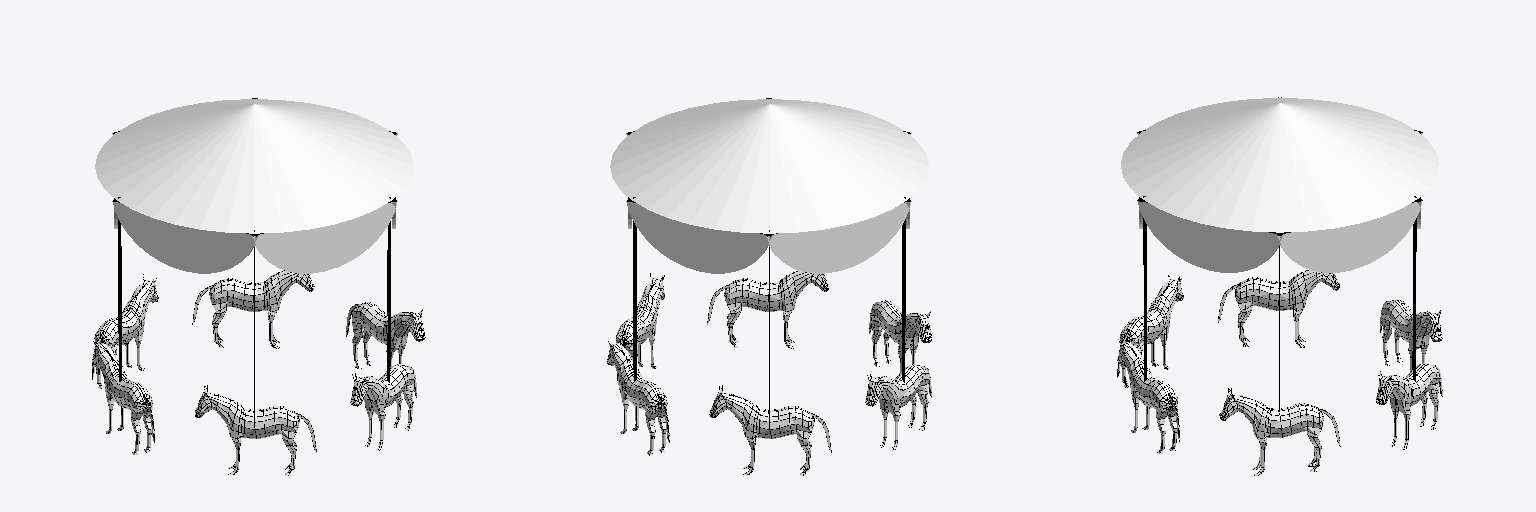
File: kar.obj
3 views of the same model, side by side, from view 1: azimuth 30°, elevation 25°; view 2: azimuth 150°, elevation 25°; view 3: azimuth 270°, elevation 25° (orthographic).
Parts seen in each view (by area): view 1: Cone, Connect.1_3, Connect.1_4, Plane_4, Plane_1, Plane_3, Plane_5, Plane, Plane_2, Sweep_3; view 2: Cone, Connect.1_0, Connect.1_5, Plane_2, Plane_5, Plane_1, Plane_3, Plane_4, Plane, Sweep_1; view 3: Cone, Connect.1_1, Connect.1_2, Plane, Plane_3, Plane_5, Plane_1, Plane_2, Plane_4, Sweep_5.
Part boxes in pixels (bbox=[...]): Cone: bbox=[95, 99, 413, 233]; Connect.1_3: bbox=[251, 200, 397, 273]; Connect.1_4: bbox=[112, 200, 258, 273]; Plane_4: bbox=[195, 385, 316, 475]; Plane_1: bbox=[192, 270, 314, 348]; Plane_3: bbox=[92, 339, 154, 454]; Plane_5: bbox=[350, 364, 416, 450]; Plane: bbox=[346, 302, 425, 368]; Plane_2: bbox=[92, 274, 158, 388]; Sweep_3: bbox=[118, 197, 121, 381]; Cone: bbox=[610, 99, 928, 233]; Connect.1_0: bbox=[626, 200, 772, 273]; Connect.1_5: bbox=[765, 200, 911, 273]; Plane_2: bbox=[709, 385, 831, 475]; Plane_5: bbox=[707, 270, 828, 348]; Plane_1: bbox=[607, 338, 669, 455]; Plane_3: bbox=[865, 364, 931, 450]; Plane_4: bbox=[869, 300, 931, 371]; Plane: bbox=[616, 273, 664, 389]; Sweep_1: bbox=[633, 197, 636, 381]; Cone: bbox=[1121, 98, 1438, 232]; Connect.1_1: bbox=[1276, 199, 1422, 272]; Connect.1_2: bbox=[1137, 199, 1283, 272]; Plane: bbox=[1219, 388, 1340, 475]; Plane_3: bbox=[1218, 270, 1339, 347]; Plane_5: bbox=[1117, 337, 1179, 453]; Plane_1: bbox=[1376, 363, 1442, 449]; Plane_2: bbox=[1380, 299, 1442, 371]; Plane_4: bbox=[1117, 275, 1183, 387]; Sweep_5: bbox=[1143, 196, 1146, 381].
Bounding box in the file's own units: 97.13 × 99.06 × 96.15.